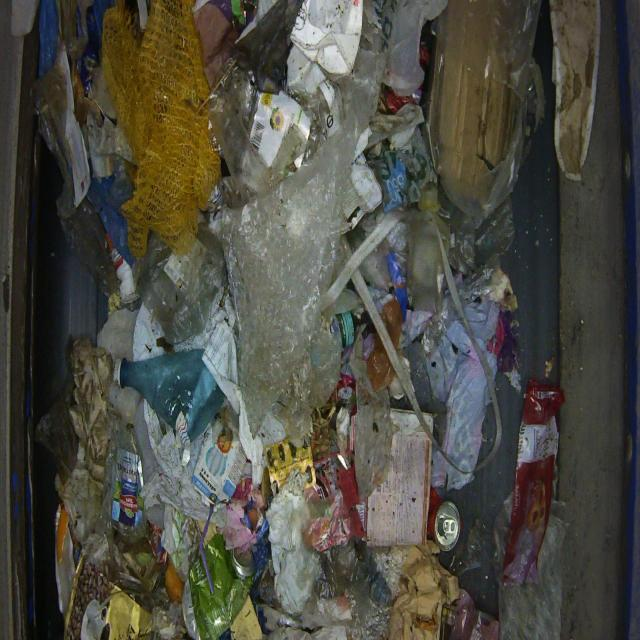cups: (117, 347, 227, 444)
other-trash: (28, 0, 566, 638)
